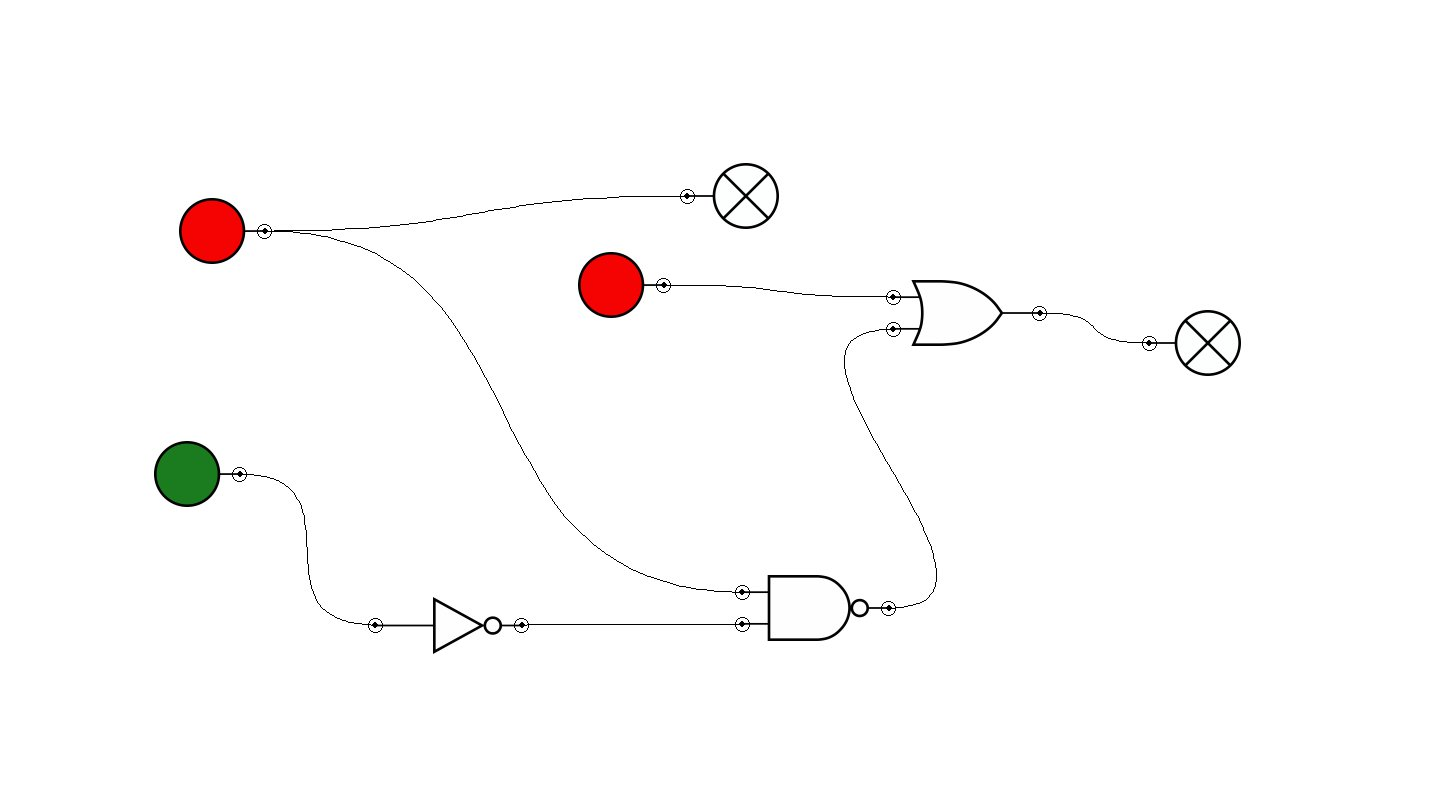bulb: (680, 163, 779, 229), (1142, 310, 1241, 376)
nand: (735, 575, 896, 641)
not: (368, 597, 529, 654)
or: (886, 280, 1047, 346)
switch_False: (179, 198, 272, 264), (578, 252, 671, 318)
switch_True: (154, 441, 247, 507)
